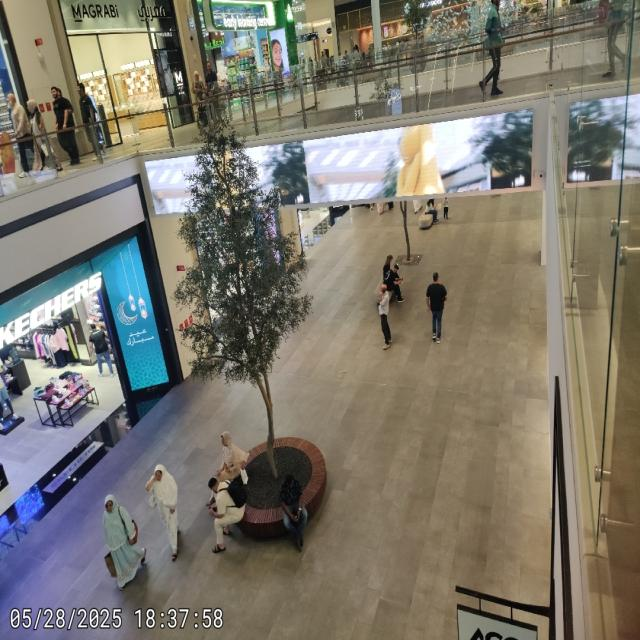rectangle-wide-board: (146, 111, 534, 216)
